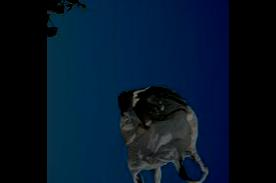Plastic: (116, 85, 212, 182)
